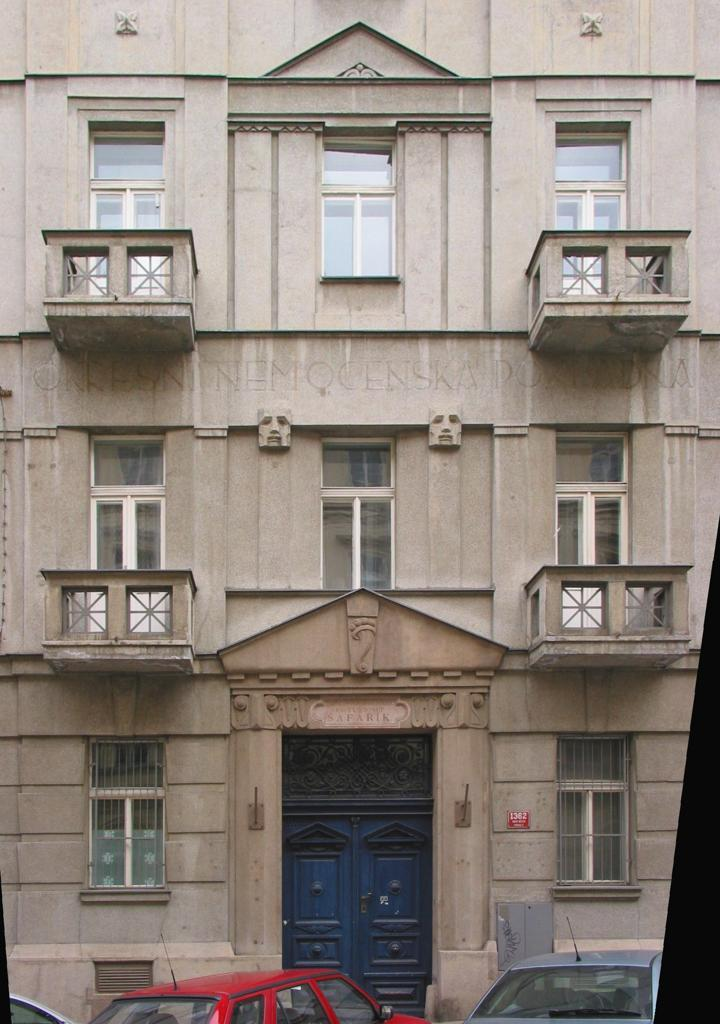window: (89, 428, 165, 634), (557, 427, 633, 628), (89, 123, 165, 296), (555, 123, 631, 294), (84, 735, 168, 889), (556, 732, 638, 886), (321, 431, 396, 589), (323, 127, 398, 277)
